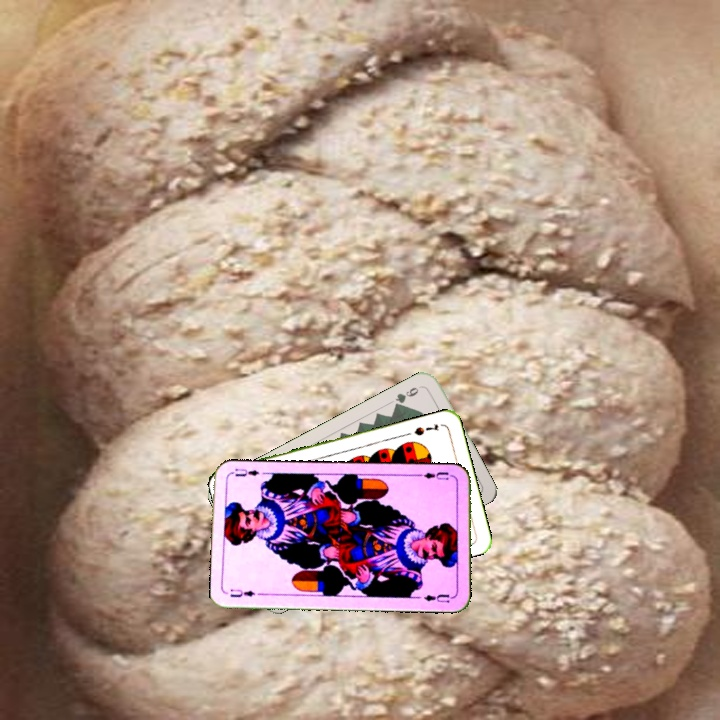EU: (415, 468, 451, 482), (226, 585, 258, 599)
G9: (390, 381, 425, 410)
S7: (410, 420, 442, 438)
